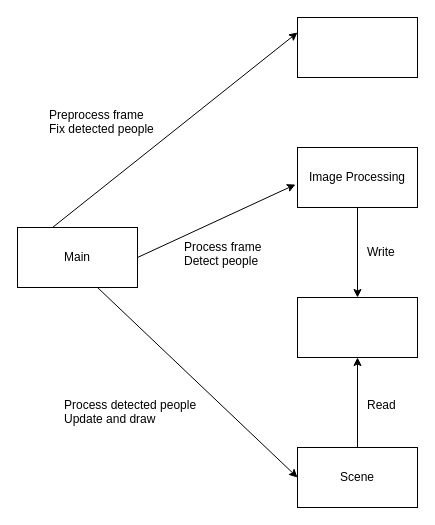
Image size: 435x525. Some labels were removed from this diagram. The shapes that lost their labels are listed below. From the top down, each one's centre as x and y in pixels, then its label:
At (x=357, y=47): "Calibration".
At (x=357, y=327): "Interface (Detected People)".
